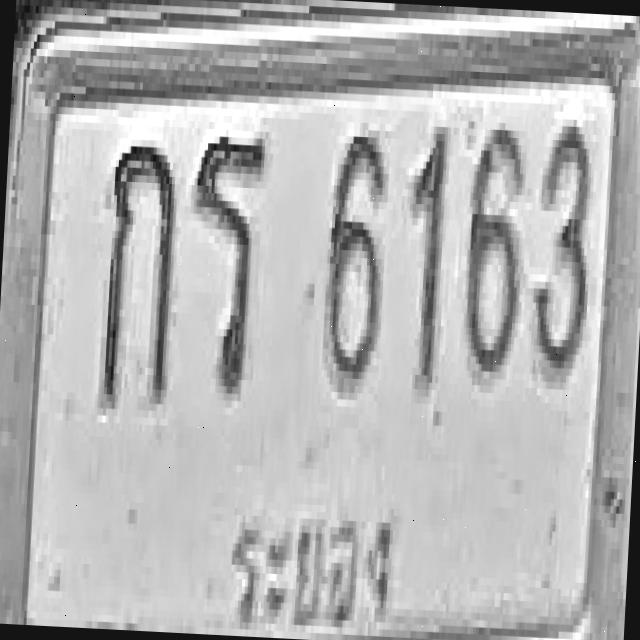1: (401, 122, 448, 394)
10GorGai: (98, 142, 180, 408)
3: (530, 122, 596, 380)
44RorRuea: (182, 128, 268, 394)
6: (461, 122, 528, 380), (322, 128, 388, 386)
Rayong: (221, 478, 406, 640)
